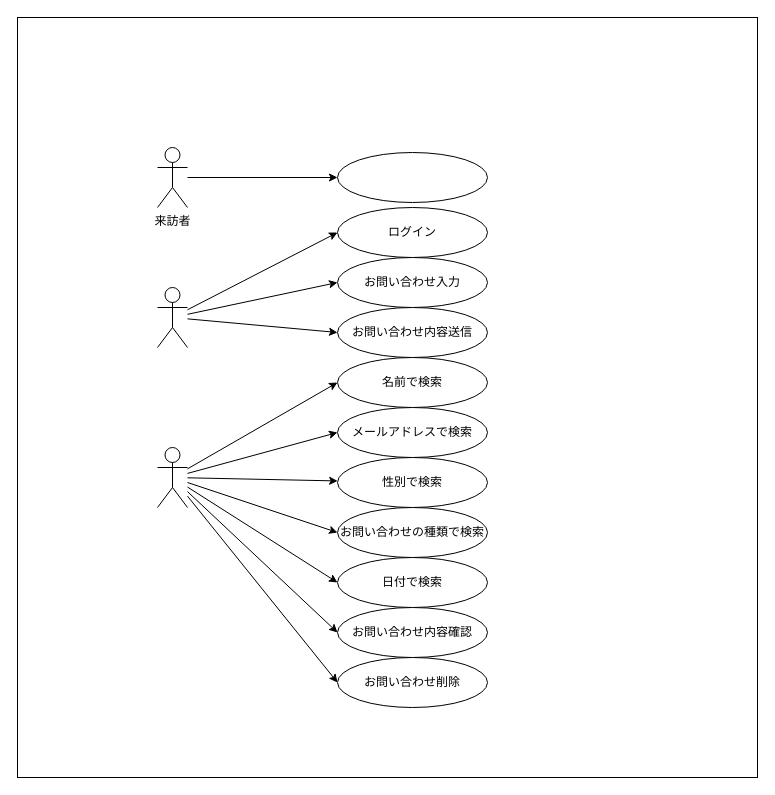
The diagram is 775 pixels wide and 795 high, and some of its shapes have lost their labels. Each missing label, with the box of its shape:
会員: (156, 286, 188, 348)
会員登録: (336, 152, 488, 202)
管理人: (156, 446, 188, 508)
